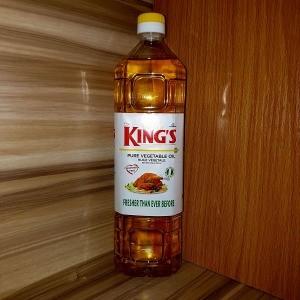vegetable oil_brain food: (105, 72, 188, 257)
